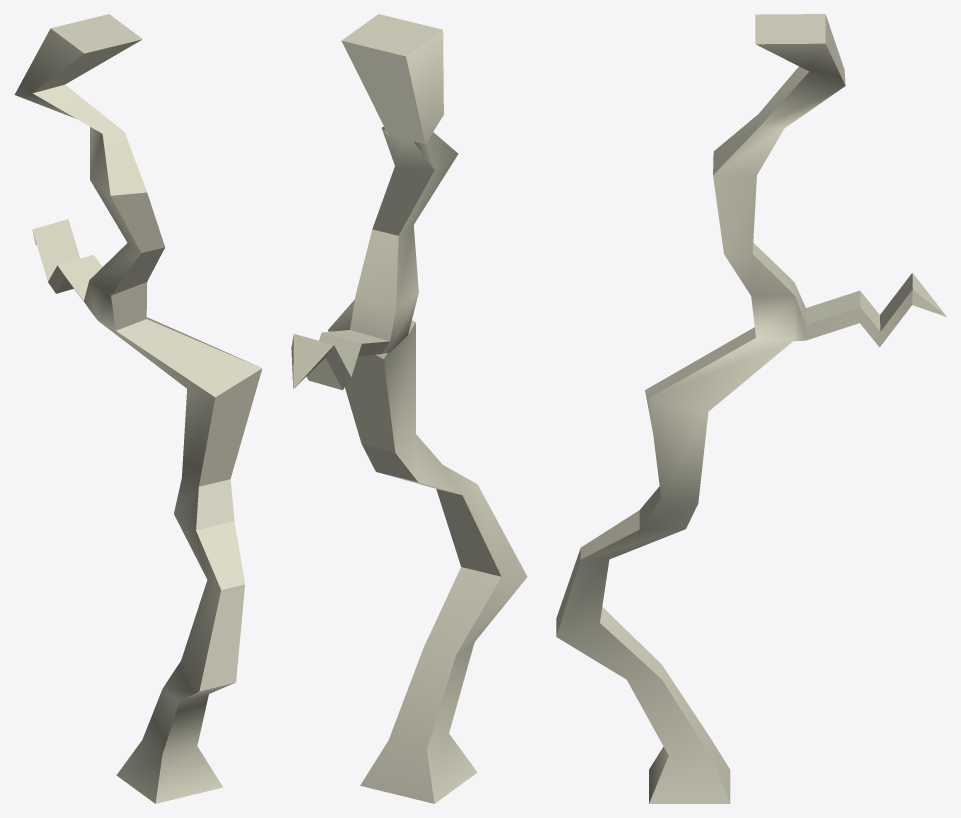
The model's file is LightningA_frame1.glb.
3 views of the same model, side by side, from view 1: azimuth 30°, elevation 25°; view 2: azimuth 150°, elevation 25°; view 3: azimuth 270°, elevation 25° (orthographic). The views are drawn at different scales.
Visible parts, largest first — view 1: LightningA_frame1; view 2: LightningA_frame1; view 3: LightningA_frame1.
Part boxes in pixels (x1,y1,x2,y2): LightningA_frame1: [14, 14, 262, 803]; LightningA_frame1: [291, 14, 527, 803]; LightningA_frame1: [556, 14, 946, 803].
Size of the model in its own units: 0.3667 by 1.63 by 0.7741.
